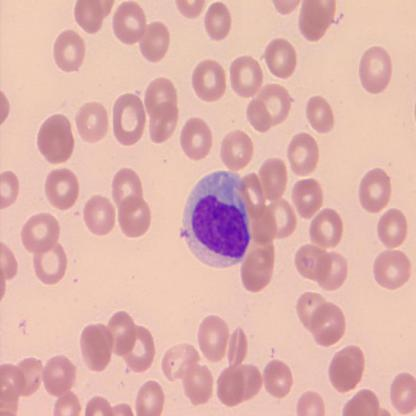Metamyelocyte: (180, 167, 256, 270)
